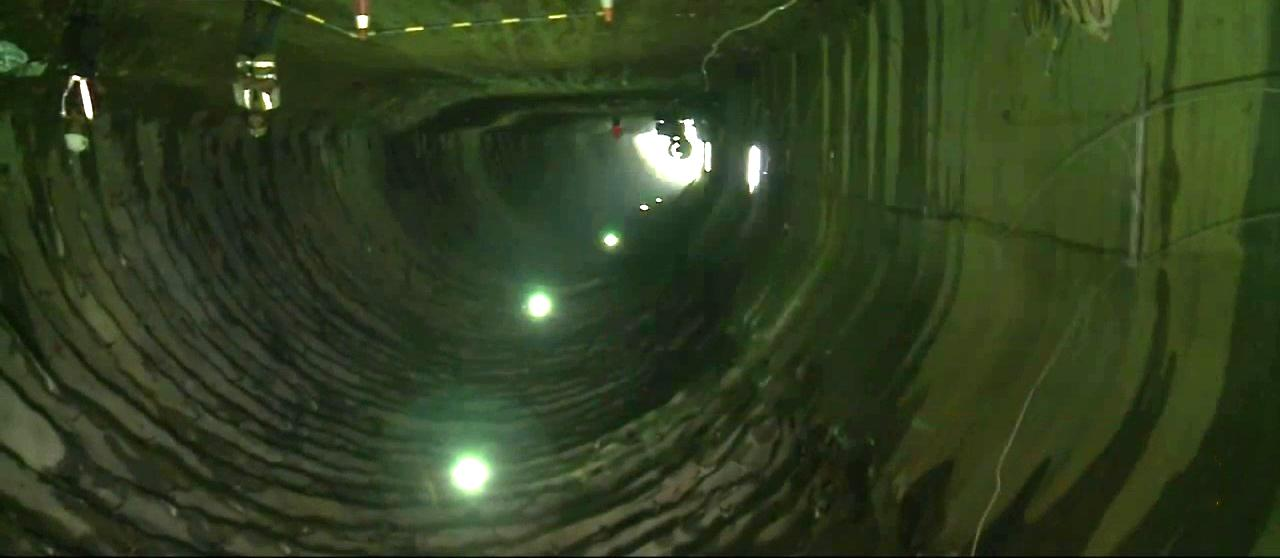helmet: (63, 117, 90, 154), (245, 111, 268, 139)
